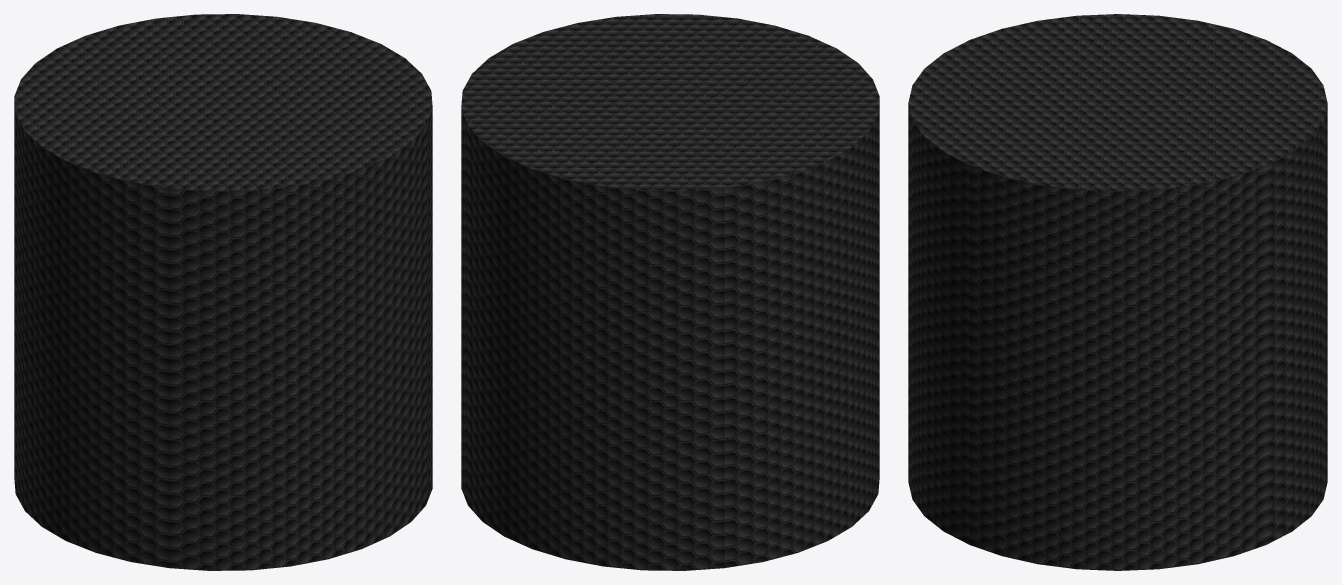
Rendered from selectionDisaster1.fbx.
3 renders of one model, left to right at view 1: azimuth 30°, elevation 25°; view 2: azimuth 150°, elevation 25°; view 3: azimuth 270°, elevation 25°, orthographic.
Parts seen in each view (by area): view 1: Cylinder; view 2: Cylinder; view 3: Cylinder.
Part boxes in pixels (x1,y1,x2,y2): Cylinder: (14,14,432,570); Cylinder: (461,14,879,570); Cylinder: (908,14,1327,570).
Size of the model in its own units: 2373 by 2373 by 2373.
4 materials, 1 textured.
